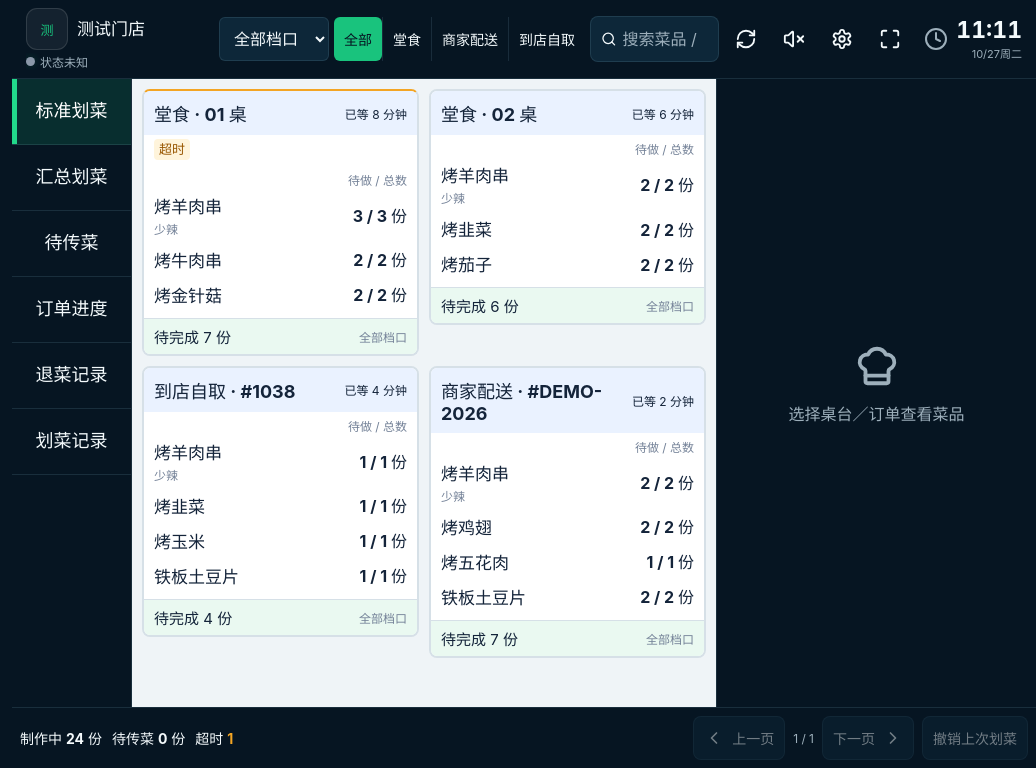
KDS operational controls › translates system return reasons and units without rewriting customer notes
Click the button "退菜记录" at [72, 376], box [12,343,131,409]
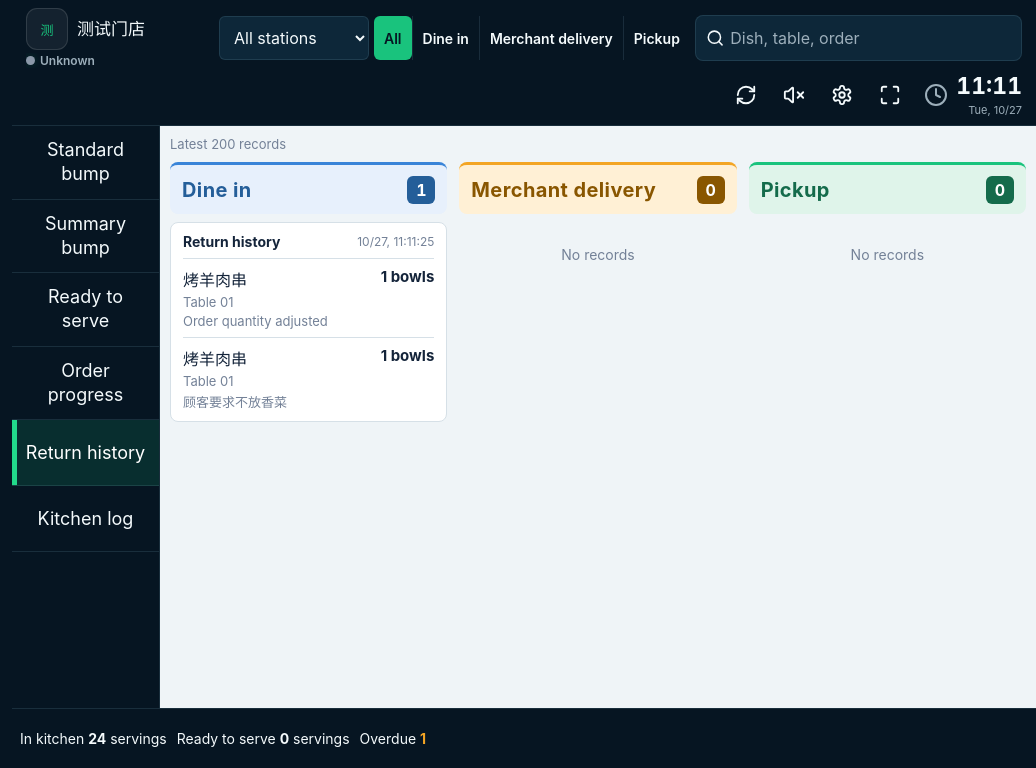
Result: the element with class "kds-records" shows "Order quantity adjusted" at [183,313,328,329]
Result: the element with class "kds-records" shows "bowls" at [381,267,434,286]
Result: the element with class "kds-records" shows "顾客要求不放香菜" at [183,394,287,410]
